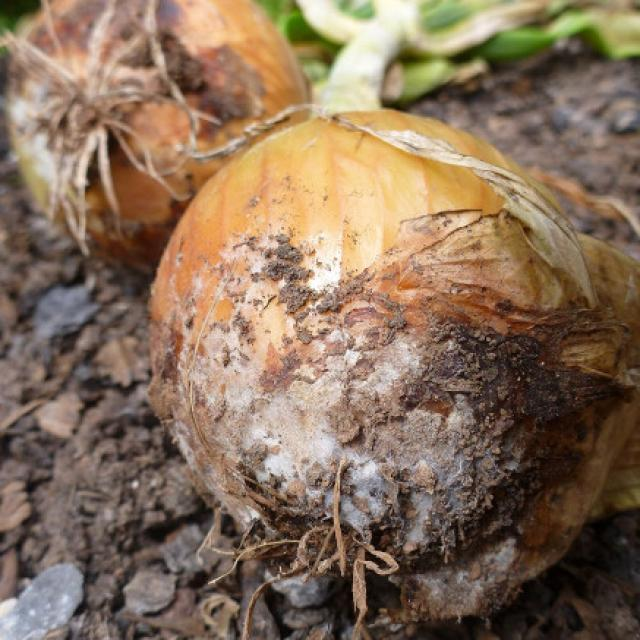Onion: (150, 97, 640, 640), (0, 0, 307, 275), (298, 0, 640, 143)
